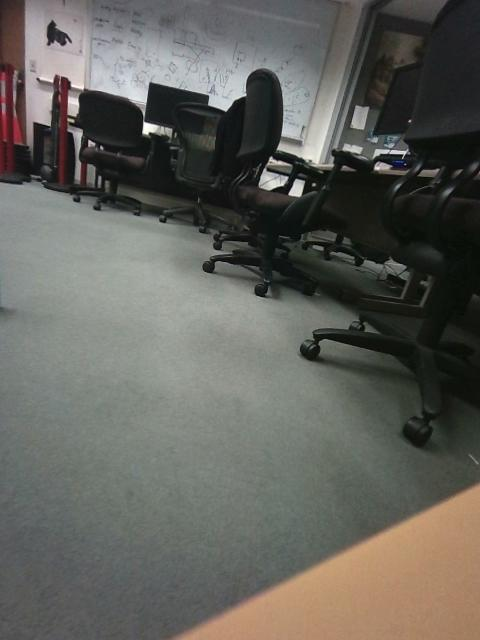block: (135, 427, 232, 501)
